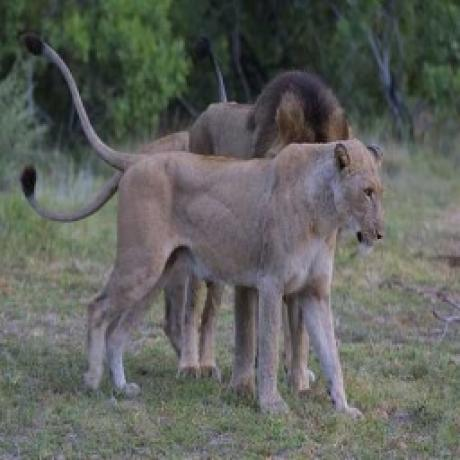Lion: (19, 37, 391, 416), (23, 70, 351, 224)
